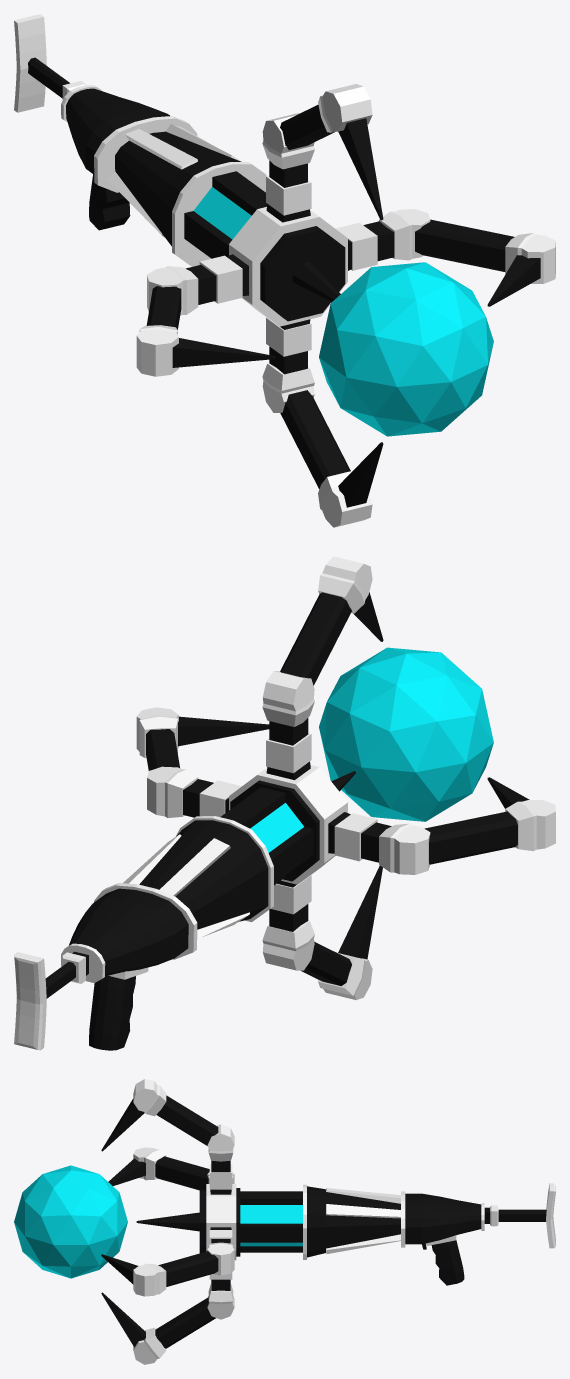
The model's file is Laser.fbx.
The picture shows the model from 3 angles, top to bottom: view 1: azimuth 30°, elevation 25°; view 2: azimuth 150°, elevation 25°; view 3: azimuth 270°, elevation 25°; orthographic projection. The views are drawn at different scales.
Visible parts, largest first — view 1: Laser; view 2: Laser; view 3: Laser.
Part boxes in pixels (x1,y1,x2,y2): Laser: (14, 14, 555, 527); Laser: (14, 556, 555, 1050); Laser: (14, 1079, 555, 1364).
Bounding box in the file's own units: 72.82 × 72.82 × 129.
